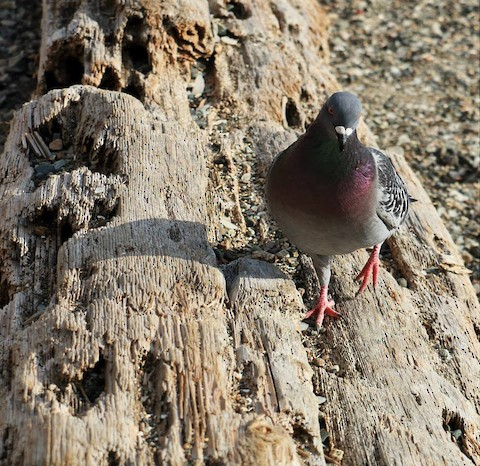pigeon: (263, 85, 416, 336)
